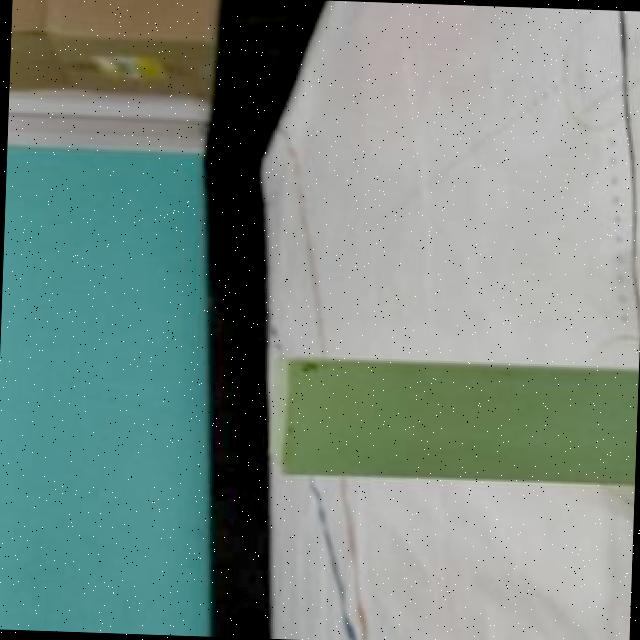greenbox: (266, 352, 638, 490)
